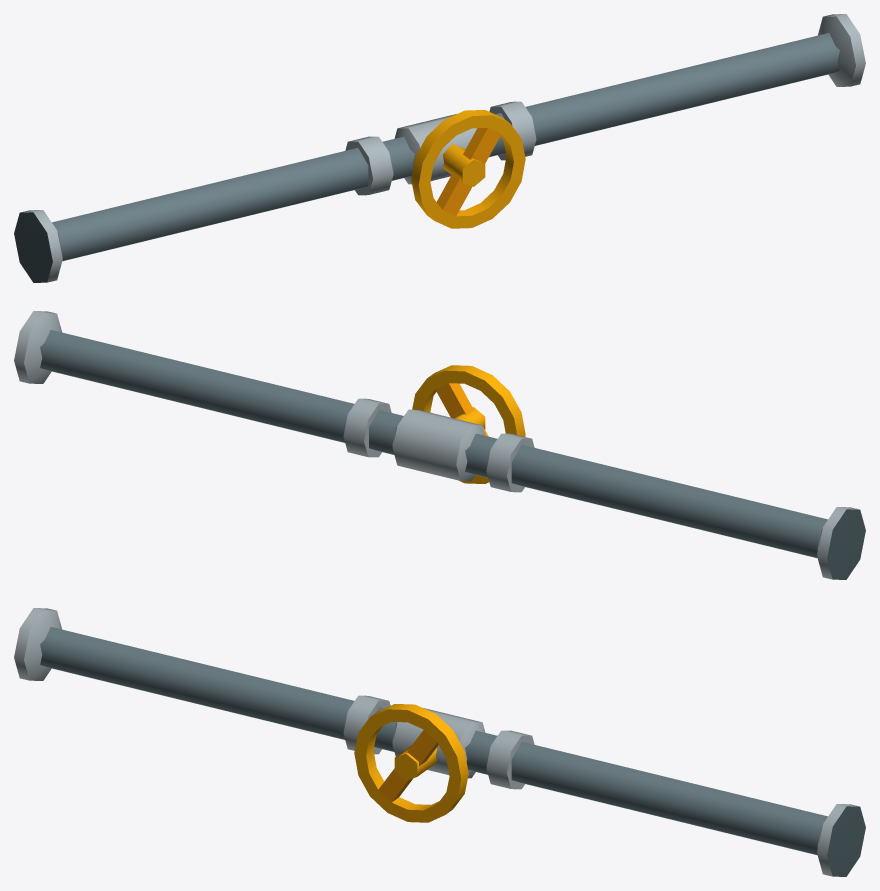
Rendered from Pipe_001.glb.
3 renders of one model, top to bottom at view 1: azimuth 30°, elevation 25°; view 2: azimuth 150°, elevation 25°; view 3: azimuth 330°, elevation 25°, orthographic.
Parts seen in each view (by area): view 1: Pipe_001; view 2: Pipe_001; view 3: Pipe_001.
Part boxes in pixels (box(x1,y1,x2,y2)): Pipe_001: box(14, 14, 865, 282); Pipe_001: box(14, 311, 865, 579); Pipe_001: box(14, 608, 865, 876).
Size of the model in its own units: 3.07 by 0.4048 by 0.3498.
Materials: 1 (1 with a texture image).
